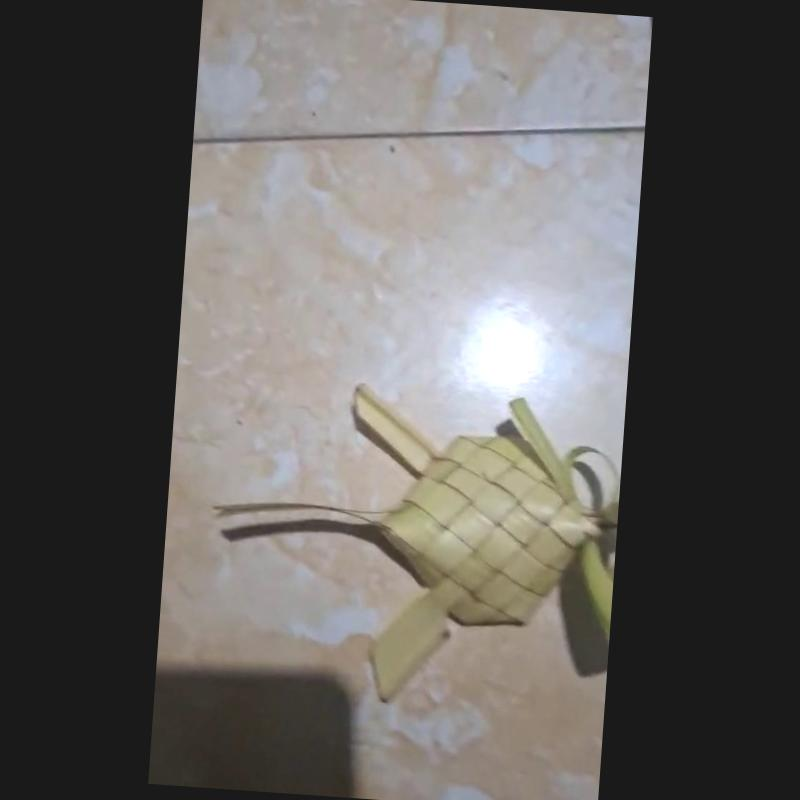Tipat Dampulan: (210, 385, 618, 710)
